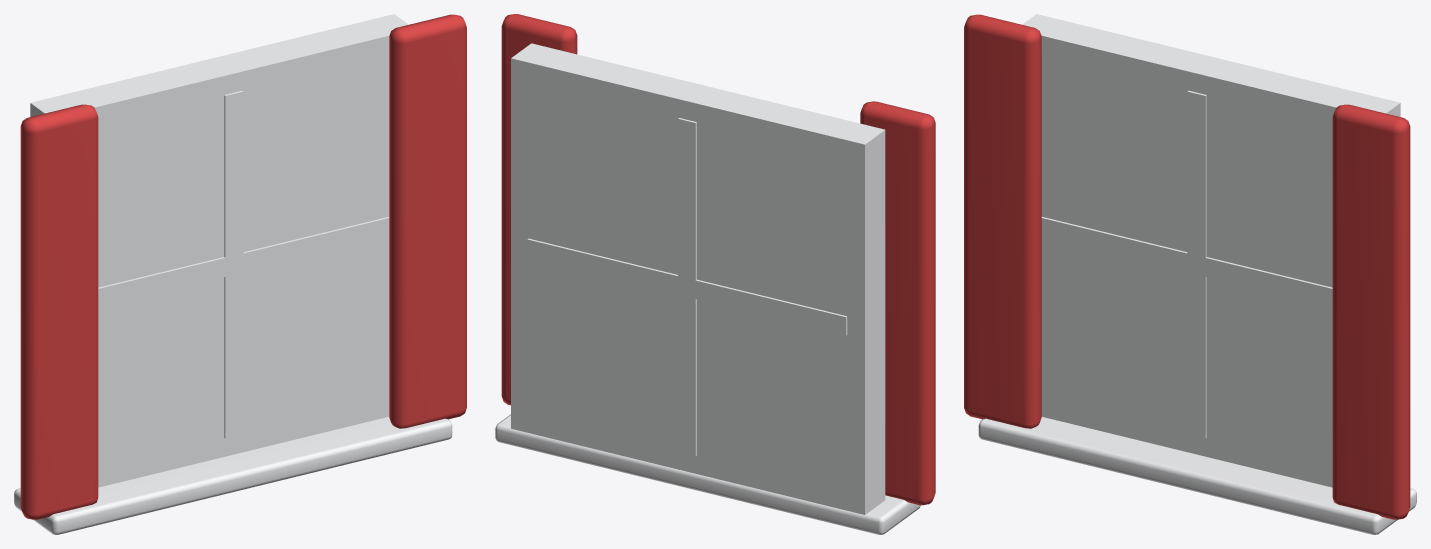
Rendered from Window.fbx.
The picture shows the model from 3 angles, left to right: view 1: azimuth 30°, elevation 25°; view 2: azimuth 150°, elevation 25°; view 3: azimuth 330°, elevation 25°; orthographic projection. The views are drawn at different scales.
Visible parts, largest first — view 1: Window; view 2: Window; view 3: Window.
Part boxes in pixels (left/top/right/bottom): Window: left=14, top=14, right=466, bottom=534; Window: left=495, top=14, right=935, bottom=534; Window: left=964, top=14, right=1416, bottom=534.
Bounding box in the file's own units: 4.85 × 4.35 × 0.825.
1 material, 1 textured.
